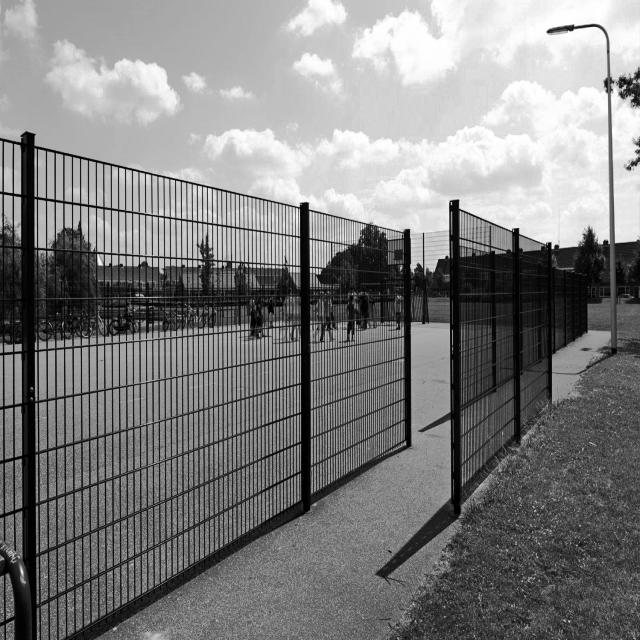fences: (0, 134, 304, 566), (454, 208, 557, 472), (317, 234, 429, 469), (560, 262, 590, 338)
